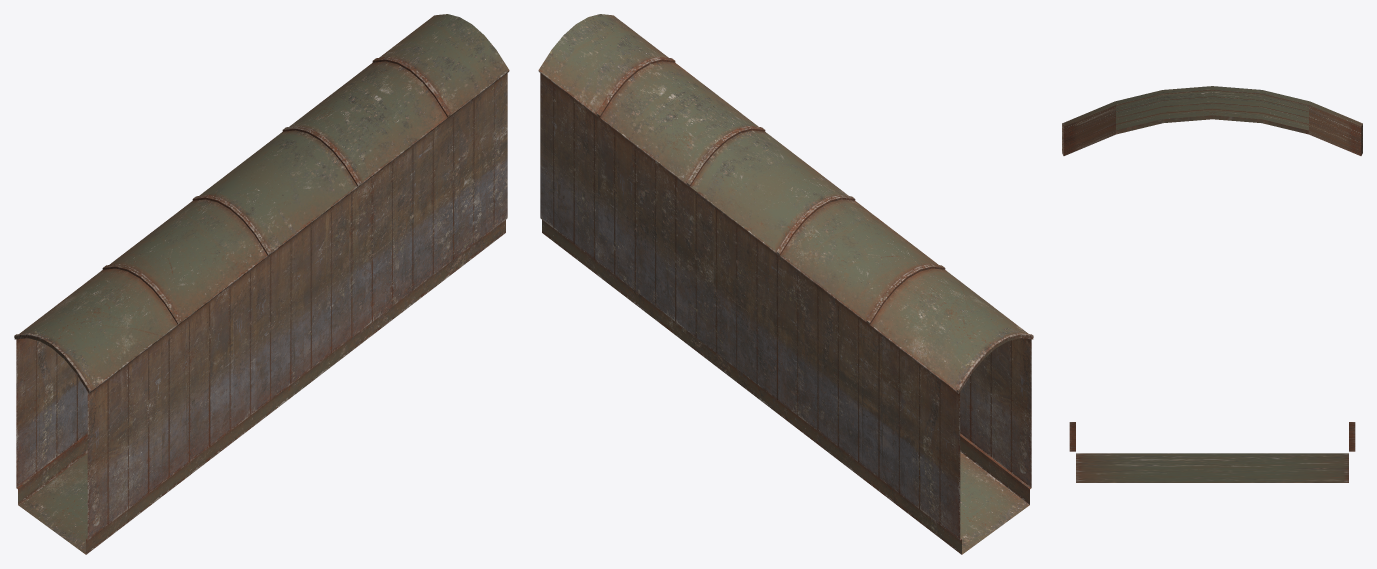
Rendered from Conveyor01b.fbx.
3 renders of one model, left to right at view 1: azimuth 30°, elevation 25°; view 2: azimuth 150°, elevation 25°; view 3: azimuth 270°, elevation 25°, orthographic. The views are drawn at different scales.
Parts seen in each view (by area): view 1: Conveyor01b; view 2: Conveyor01b; view 3: Conveyor01b.
Boxes of the visible parts, x1,y1,x2,y2 form: Conveyor01b: [14, 14, 509, 554]; Conveyor01b: [538, 14, 1033, 554]; Conveyor01b: [1062, 86, 1362, 482].
Bounding box in the file's own units: 600 × 551 × 186.
